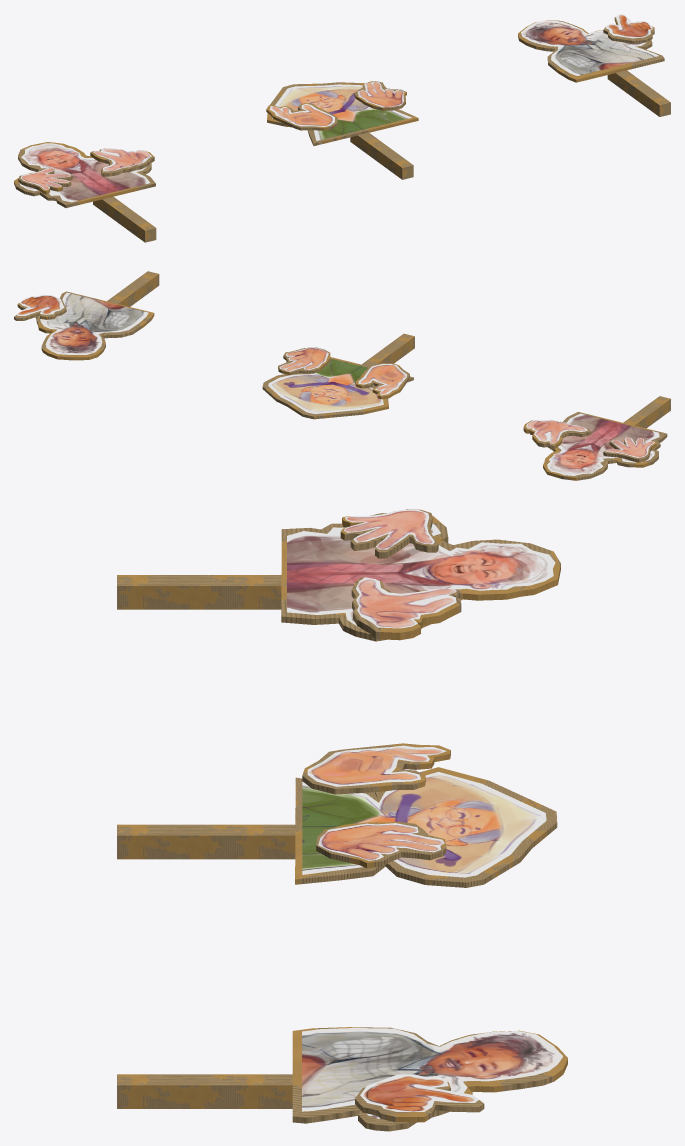
The model's file is GameJam Chars.fbx.
The picture shows the model from 3 angles, top to bottom: view 1: azimuth 30°, elevation 25°; view 2: azimuth 150°, elevation 25°; view 3: azimuth 270°, elevation 25°; orthographic projection. The views are drawn at different scales.
Visible parts, largest first — view 1: aunty1nohands.003, aunty1nohands.014, aunty1nohands.016; view 2: aunty1nohands.003, aunty1nohands.014, aunty1nohands.016; view 3: aunty1nohands.003, aunty1nohands.014, aunty1nohands.016.
Boxes of the visible parts, x1=… form: aunty1nohands.003: x1=266, y1=81, x2=418, y2=179; aunty1nohands.014: x1=14, y1=142, x2=156, y2=242; aunty1nohands.016: x1=518, y1=14, x2=670, y2=116; aunty1nohands.003: x1=262, y1=333, x2=414, y2=419; aunty1nohands.014: x1=523, y1=396, x2=670, y2=480; aunty1nohands.016: x1=14, y1=271, x2=159, y2=360; aunty1nohands.003: x1=117, y1=743, x2=557, y2=887; aunty1nohands.014: x1=117, y1=509, x2=560, y2=641; aunty1nohands.016: x1=117, y1=1027, x2=567, y2=1131.
Bounding box in the file's own units: 494 × 19.01 × 153.
17 materials, 17 textured.
